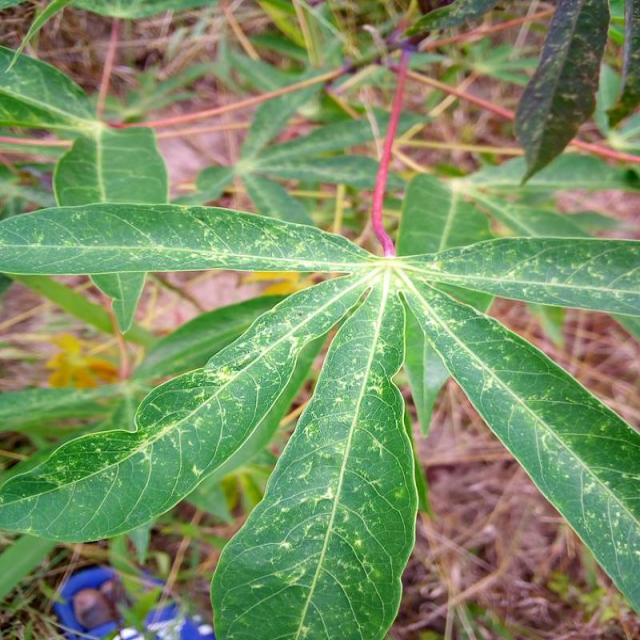cassava leaf: (1, 168, 638, 636), (209, 272, 419, 638)
